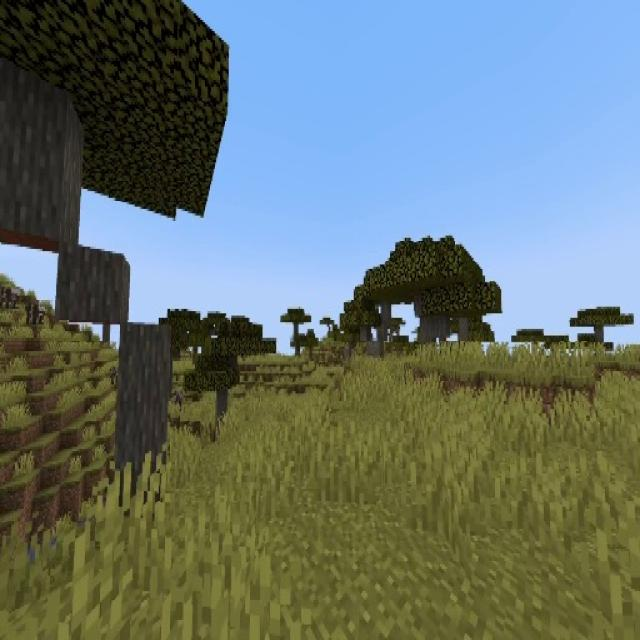acacia: (0, 0, 231, 521), (365, 236, 501, 394), (340, 264, 410, 367), (185, 350, 237, 443), (572, 305, 632, 382), (280, 307, 312, 357)
acacia_log: (0, 60, 80, 251), (116, 324, 170, 506), (57, 244, 131, 322), (420, 314, 450, 339), (216, 391, 226, 432), (367, 342, 383, 359), (381, 304, 390, 326), (359, 327, 368, 342), (378, 328, 387, 341)
